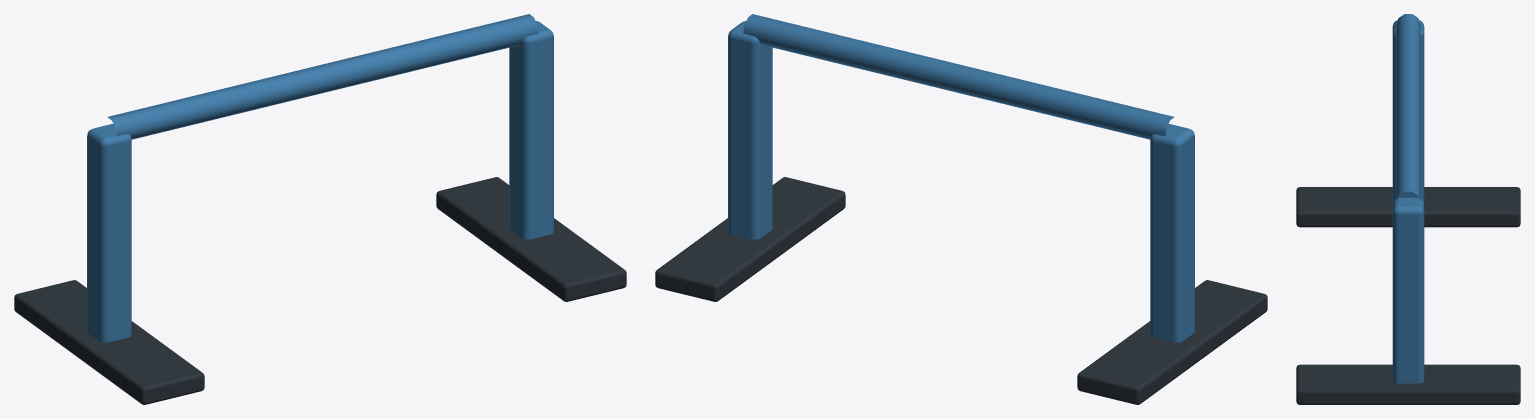
The model's file is squash-club-and-racket-workshop-agility-hurdle-20fcad4f__29782.glb.
The picture shows the model from 3 angles, left to right: view 1: azimuth 30°, elevation 25°; view 2: azimuth 150°, elevation 25°; view 3: azimuth 270°, elevation 25°; orthographic projection. The views are drawn at different scales.
Visible parts, largest first — view 1: agility-hurdle; view 2: agility-hurdle; view 3: agility-hurdle.
Part boxes in pixels (left/top/right/bottom): agility-hurdle: left=14, top=14, right=626, bottom=404; agility-hurdle: left=655, top=14, right=1267, bottom=404; agility-hurdle: left=1296, top=14, right=1520, bottom=404.
Bounding box in the file's own units: 0.69 × 0.3166 × 0.32.
